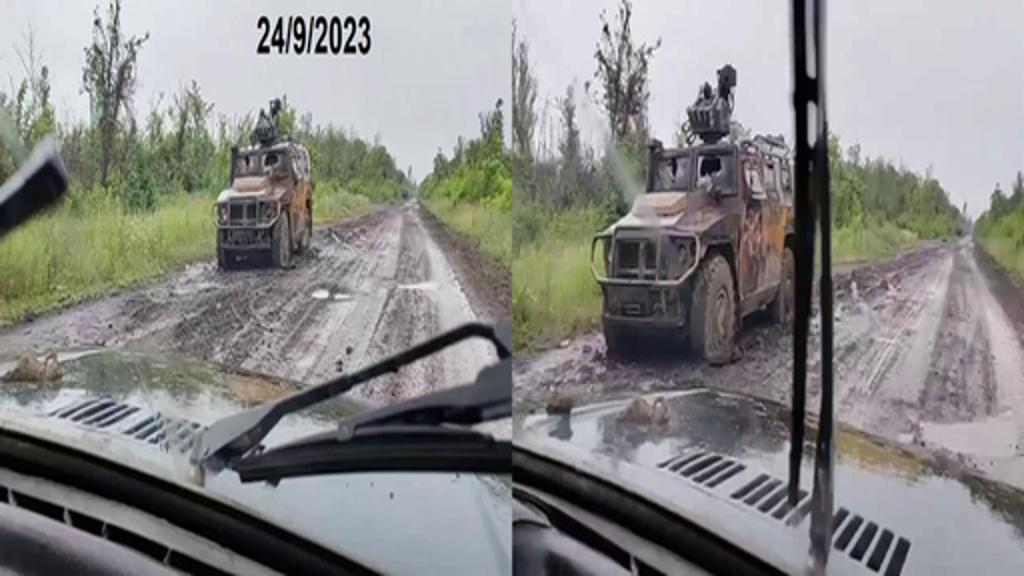CAR: (584, 128, 808, 362), (206, 138, 316, 270)
